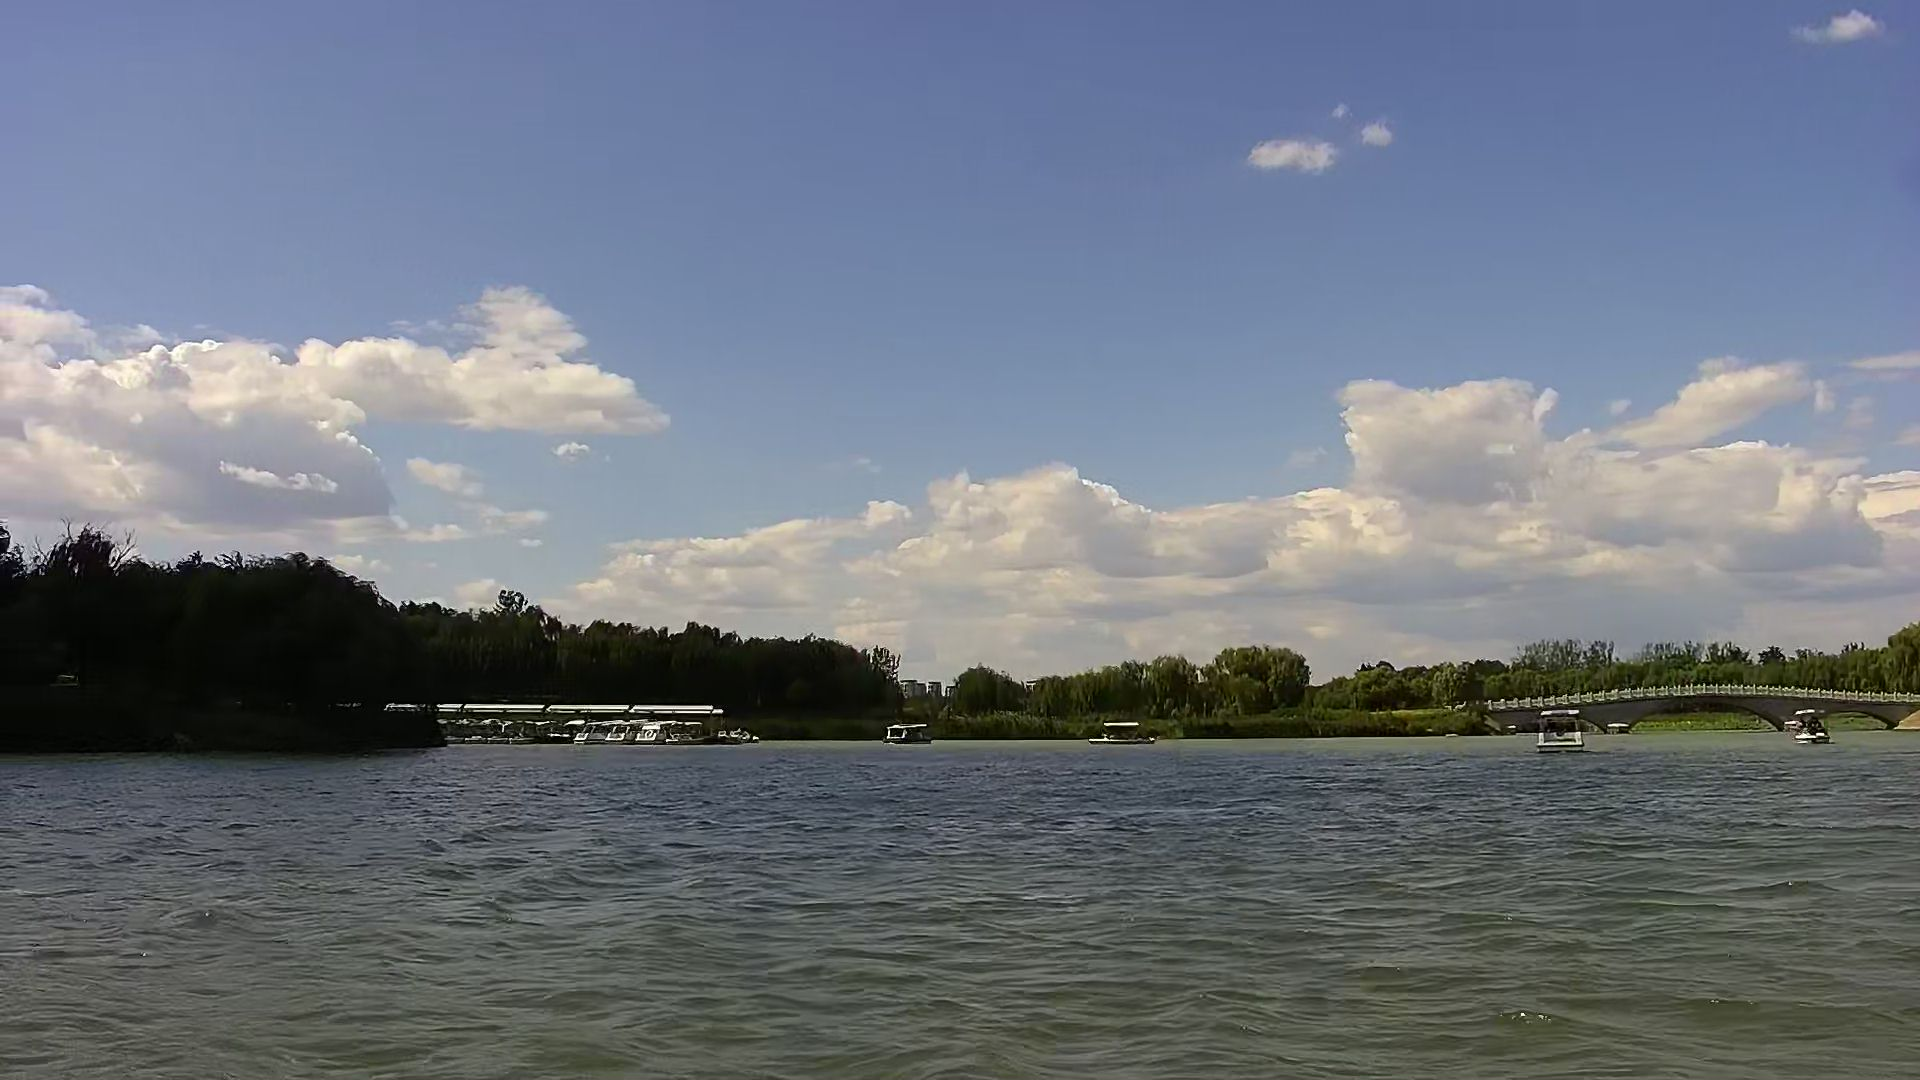boat: (1519, 705, 1592, 764), (1783, 700, 1844, 760), (629, 716, 713, 750), (1089, 713, 1164, 749), (880, 712, 934, 749), (564, 712, 607, 746), (607, 720, 641, 748)
bridge: (1469, 678, 1920, 731)
